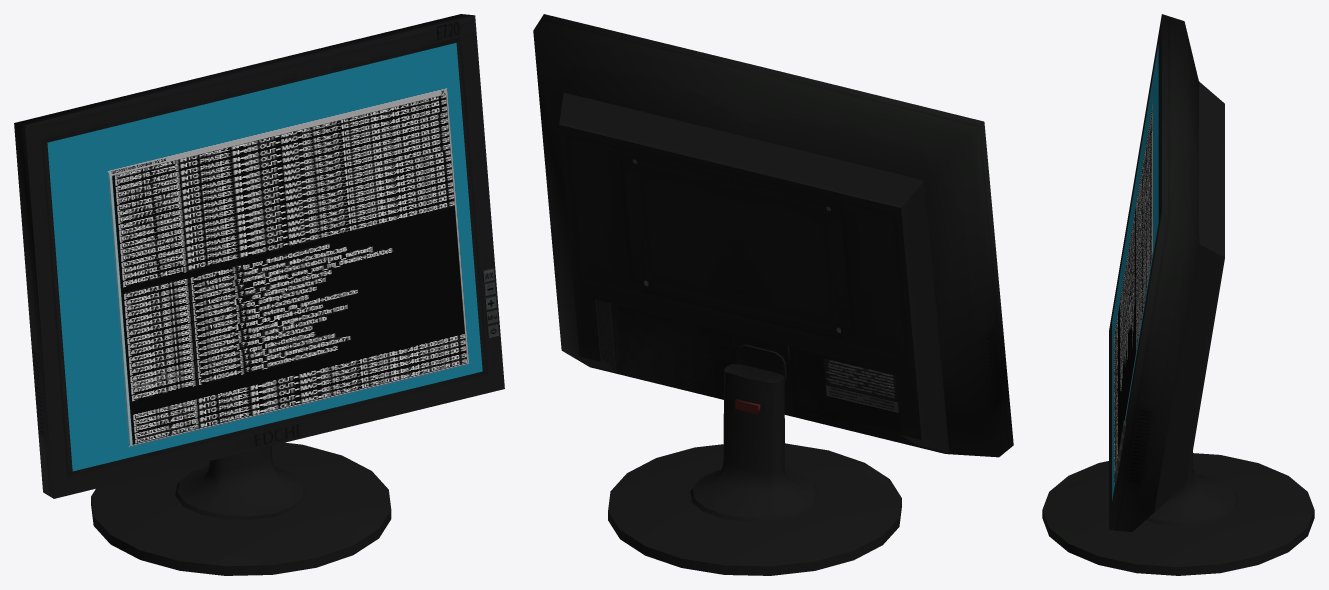
The model's file is monitor_brainscan_animated02.dae.
3 views of the same model, side by side, from view 1: azimuth 30°, elevation 25°; view 2: azimuth 150°, elevation 25°; view 3: azimuth 270°, elevation 25° (orthographic). The views are drawn at different scales.
Parts seen in each view (by area): view 1: polySurface209, polySurface210, polySurface211; view 2: polySurface209; view 3: polySurface209, polySurface210, polySurface211.
Boxes of the visible parts, x1,y1,x2,y2 form: polySurface209: [14, 14, 504, 575]; polySurface210: [112, 94, 467, 443]; polySurface211: [47, 43, 482, 471]; polySurface209: [533, 14, 1013, 575]; polySurface209: [1042, 14, 1314, 575]; polySurface210: [1114, 111, 1151, 483]; polySurface211: [1112, 43, 1158, 501].
Bounding box in the file's own units: 0.7193 × 0.685 × 0.4164.
